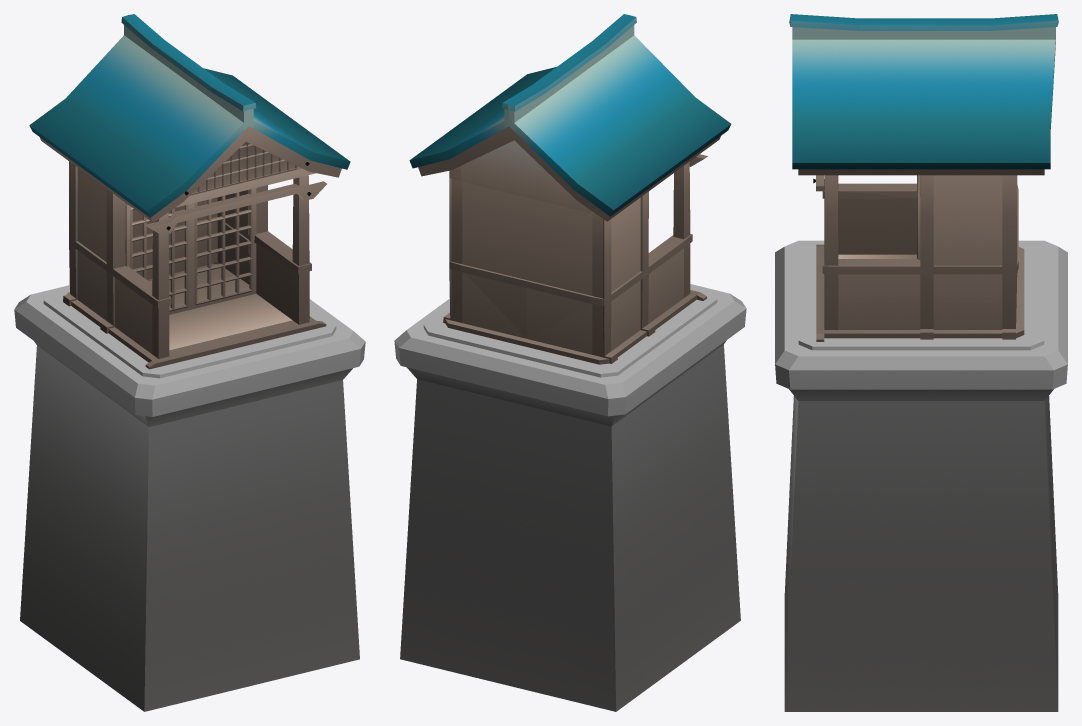
File: shinto_test.fbx
3 views of the same model, side by side, from view 1: azimuth 30°, elevation 25°; view 2: azimuth 150°, elevation 25°; view 3: azimuth 270°, elevation 25° (orthographic). The views are drawn at different scales.
Visible parts, largest first — view 1: shrine_base, shinto_house_base, shinto_roof_02, shinto_door, shinto_roof_01, shinto_house_beam_01; view 2: shrine_base, shinto_house_base, shinto_roof_02, shinto_roof_01; view 3: shrine_base, shinto_roof_02, shinto_house_base, shinto_roof_01.
Boxes of the visible parts, left/top/right/bottom form: shrine_base: left=14, top=285, right=365, bottom=711; shinto_house_base: left=63, top=142, right=326, bottom=369; shinto_roof_02: left=29, top=14, right=350, bottom=217; shinto_door: left=125, top=188, right=256, bottom=314; shinto_roof_01: left=39, top=126, right=341, bottom=222; shinto_house_beam_01: left=145, top=181, right=326, bottom=235; shrine_base: left=394, top=284, right=746, bottom=711; shinto_house_base: left=443, top=140, right=706, bottom=364; shinto_roof_02: left=409, top=14, right=731, bottom=216; shinto_roof_01: left=418, top=126, right=720, bottom=221; shrine_base: left=775, top=240, right=1067, bottom=711; shinto_roof_02: left=789, top=14, right=1058, bottom=169; shinto_house_base: left=816, top=175, right=1024, bottom=341; shinto_roof_01: left=798, top=169, right=1044, bottom=175.
Bounding box in the file's own units: 21.07 × 50.55 × 21.07.
Materials: 6 (4 with a texture image).
